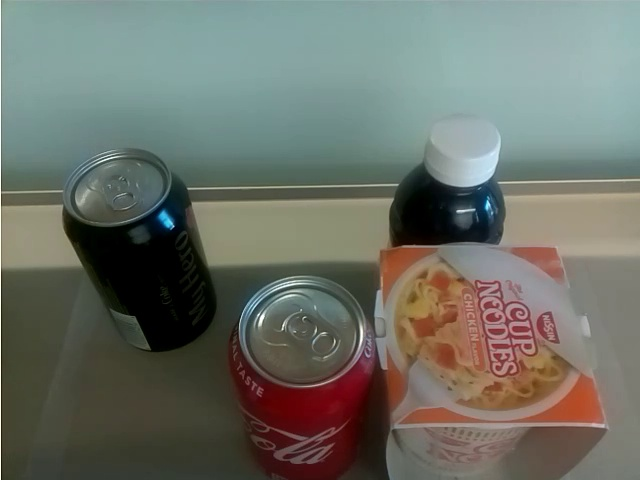cocacola: (58, 144, 219, 353), (226, 272, 373, 478)
juice: (380, 108, 517, 244)
noodles: (381, 248, 610, 480)
